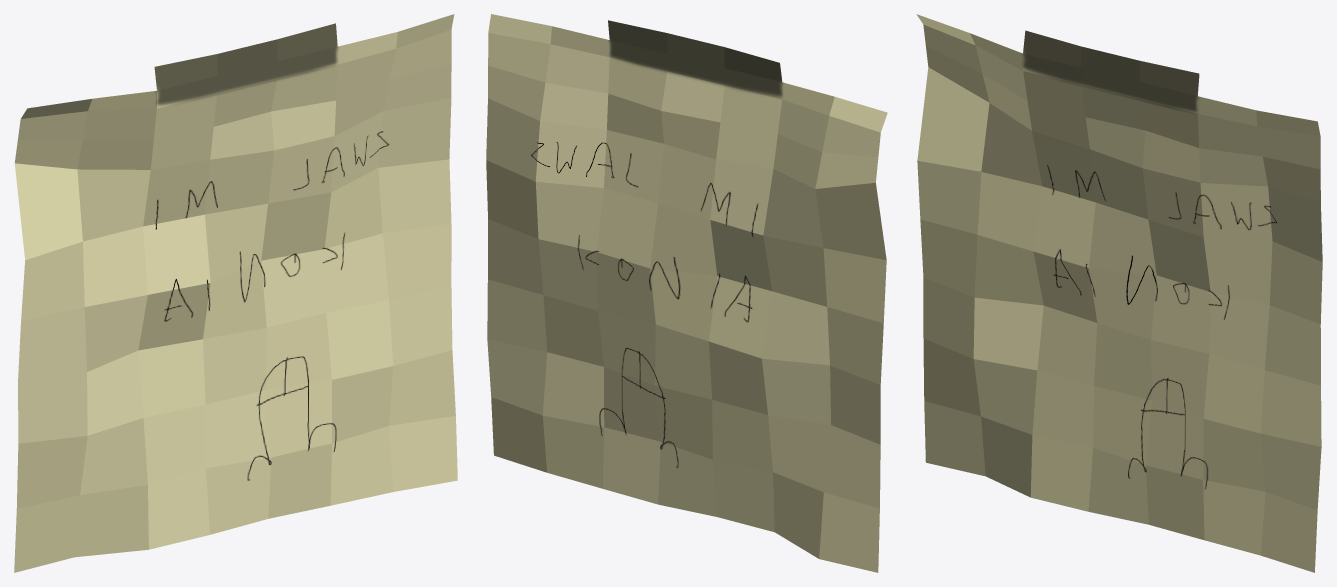
Rendered from karteczka.fbx.
3 renders of one model, left to right at view 1: azimuth 30°, elevation 25°; view 2: azimuth 150°, elevation 25°; view 3: azimuth 330°, elevation 25°, orthographic. The views are drawn at different scales.
Parts seen in each view (by area): view 1: Plane; view 2: Plane; view 3: Plane.
Part boxes in pixels (x1=…): Plane: x1=14, y1=14, x2=457, y2=572; Plane: x1=486, y1=14, x2=887, y2=572; Plane: x1=916, y1=14, x2=1322, y2=572.
Size of the model in its own units: 201 by 222 by 18.49.
1 material, 1 textured.
